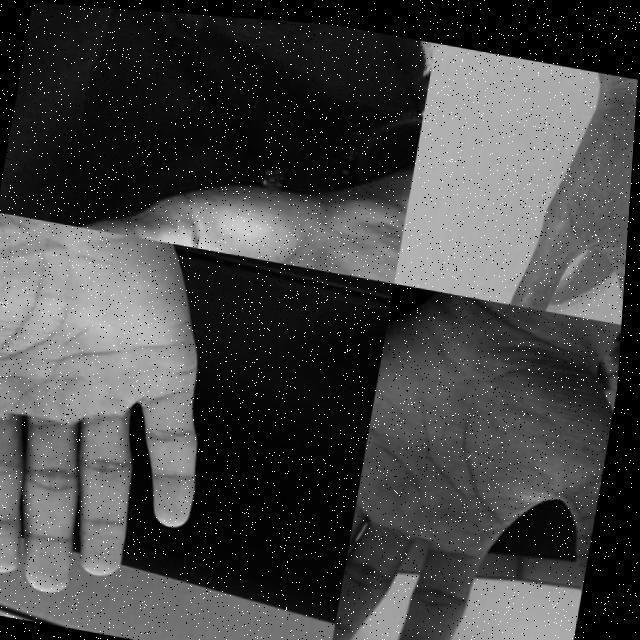no-gloves: (48, 20, 430, 279), (336, 300, 626, 640), (0, 211, 240, 616), (501, 51, 638, 314)
